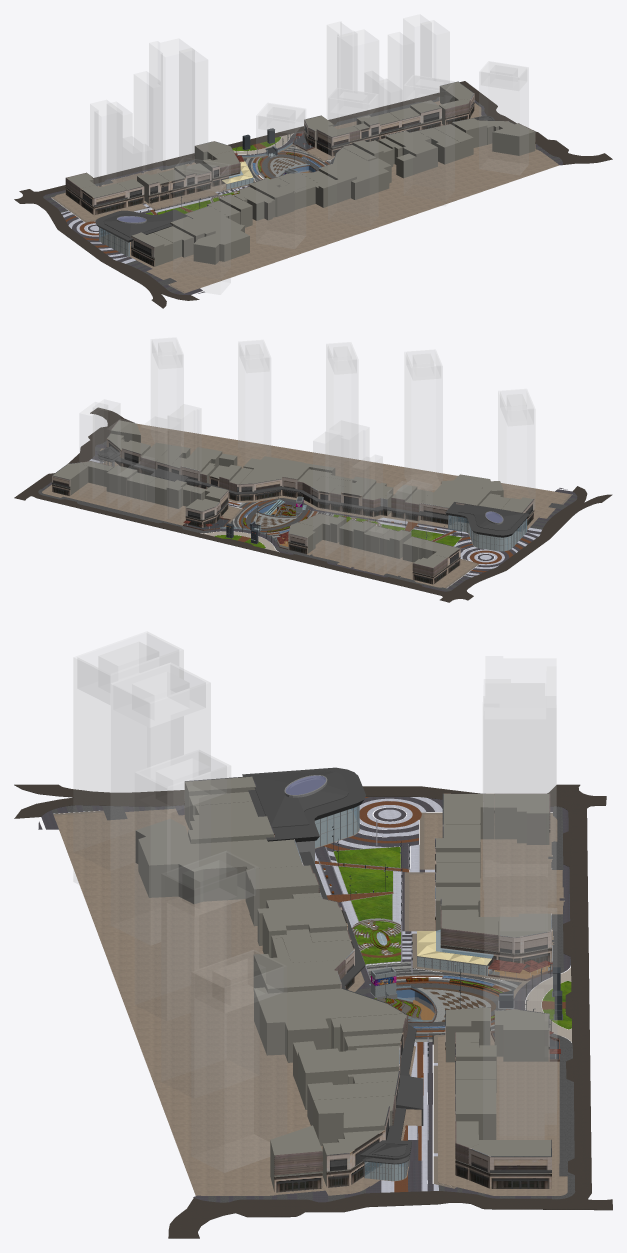
Rendered from MERKEZ_ANKARA_KAT_1_DENEME.glb.
3 views of the same model, one above another, from view 1: azimuth 30°, elevation 25°; view 2: azimuth 150°, elevation 25°; view 3: azimuth 270°, elevation 25° (orthographic). The views are drawn at different scales.
Visible parts, largest first — view 1: Plane.523, Plane.046, Plane.047, Plane.045, Plane.043, Plane.044, Plane.558, Plane.358, Plane.357, Plane.363, Plane.359, Plane.356 (+37 smaller); view 2: Plane.523, Plane.558, Plane.358, Plane.046, Plane.047, Plane.043, Plane.355, Plane.356, Plane.045, Plane.357, Plane.044, Plane.359 (+43 smaller); view 3: Plane.523, Plane.046, Plane.558, Plane.044, Plane.045, Plane.043, Plane.047, Plane.358, Plane.357, Plane.349, Plane.546, Plane.264 (+56 smaller).
Part boxes in pixels (box(x1,y1,x2,y2)): Plane.523: box(99, 143, 559, 292); Plane.046: box(256, 103, 305, 248); Plane.047: box(173, 158, 230, 294); Plane.045: box(328, 88, 377, 219); Plane.043: box(404, 75, 454, 205); Plane.044: box(479, 61, 528, 174); Plane.558: box(14, 81, 612, 308); Plane.358: box(149, 39, 194, 171); Plane.357: box(179, 48, 207, 162); Plane.363: box(90, 100, 121, 186); Plane.359: box(134, 71, 160, 174); Plane.356: box(327, 22, 356, 128); Plane.523: box(100, 423, 570, 550); Plane.558: box(14, 407, 612, 602); Plane.358: box(326, 421, 368, 562); Plane.046: box(405, 350, 442, 490); Plane.047: box(498, 389, 534, 498); Plane.043: box(238, 340, 270, 456); Plane.355: box(141, 417, 179, 513); Plane.356: box(168, 404, 200, 518); Plane.045: box(326, 342, 357, 464); Plane.357: box(313, 430, 340, 553); Plane.044: box(151, 338, 183, 446); Plane.359: box(352, 455, 382, 565); Plane.523: box(54, 808, 421, 1195); Plane.046: box(111, 663, 210, 944); Plane.558: box(14, 784, 612, 1238); Plane.044: box(192, 950, 286, 1172); Plane.045: box(135, 750, 230, 1004); Plane.043: box(162, 851, 258, 1081); Plane.047: box(74, 632, 183, 883); Plane.358: box(486, 656, 555, 903); Plane.357: box(484, 708, 545, 916); Plane.349: box(483, 989, 543, 1139); Plane.546: box(438, 1035, 567, 1195); Plane.264: box(135, 819, 302, 903).
Size of the model in its own units: 319 by 90.47 by 178.
Materials: 437 (272 with a texture image).
